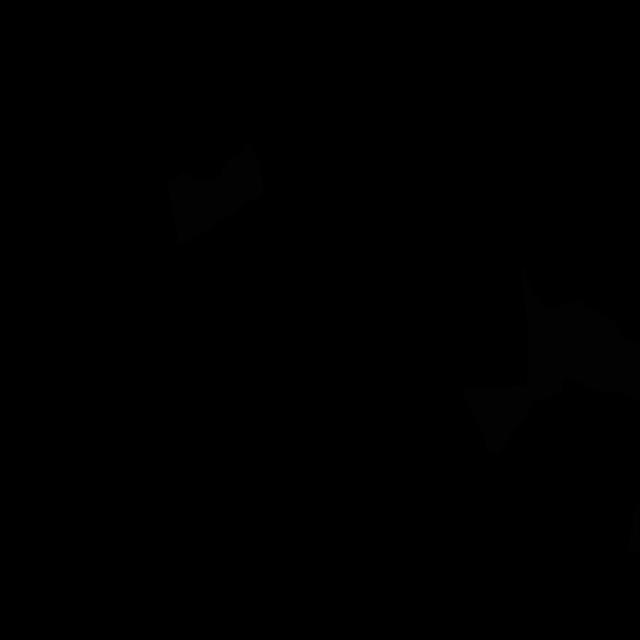cardboard: (521, 268, 640, 405), (167, 141, 263, 244), (462, 370, 538, 454), (628, 502, 640, 552)
